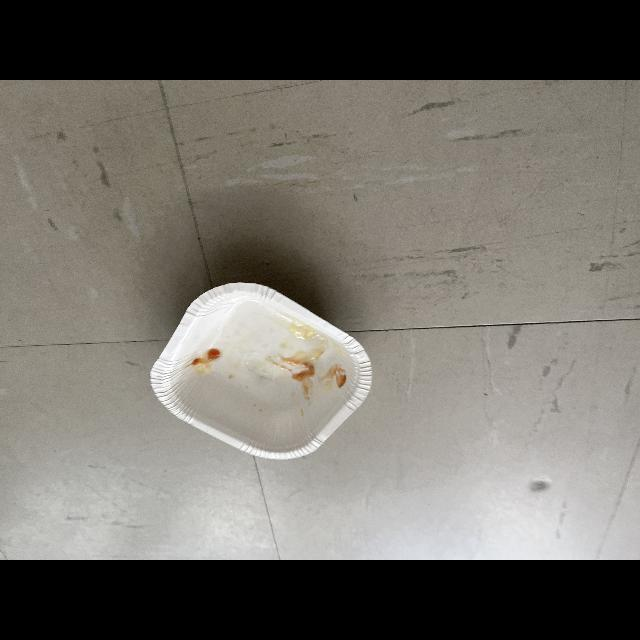cardboard_bowl: (138, 274, 378, 466)
